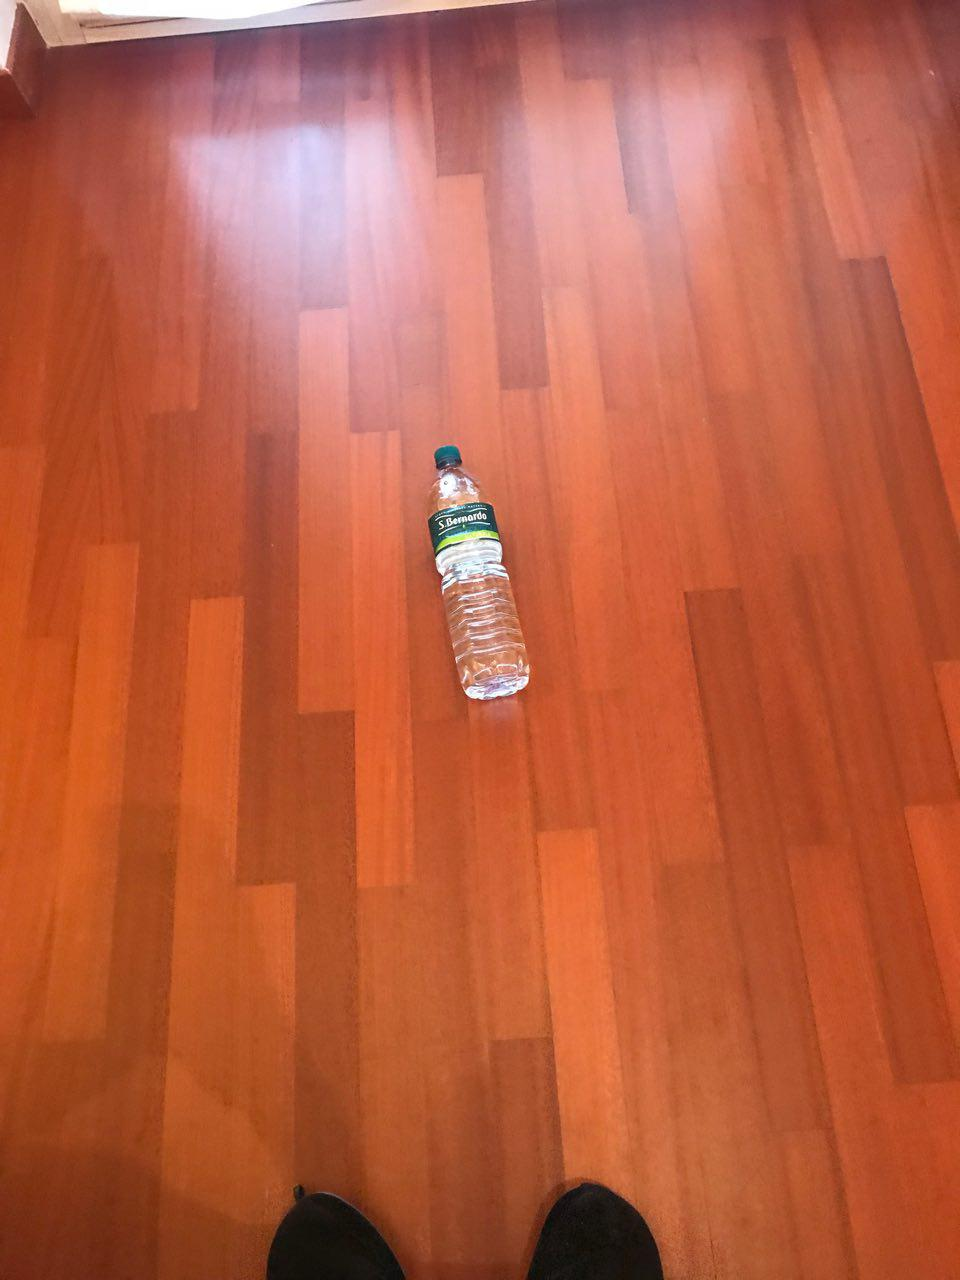san_bernardo: (426, 444, 531, 700)
